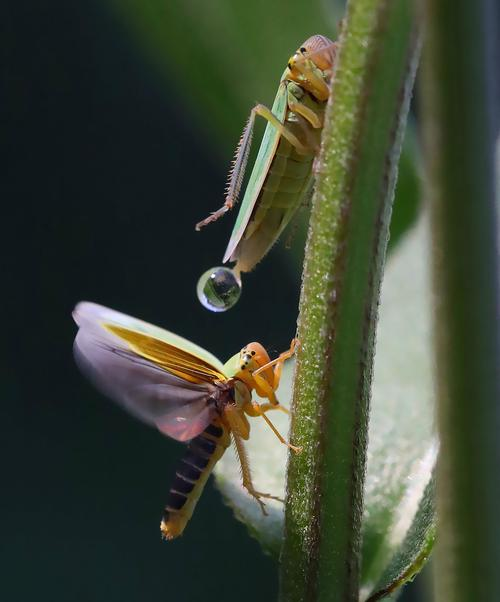Cicadellidae: (67, 302, 307, 541), (195, 36, 335, 268)
